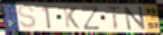1: (41, 5, 53, 30)
K: (62, 5, 81, 30)
N: (123, 5, 148, 32)
S: (17, 4, 38, 30)
T: (105, 6, 123, 31)
Z: (80, 5, 103, 31)
